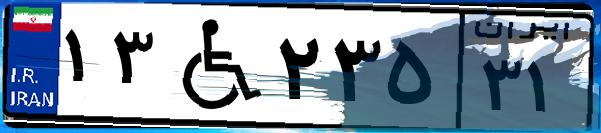1: (57, 26, 110, 100), (525, 38, 570, 115)
2: (270, 28, 330, 110)
3: (330, 28, 385, 110), (475, 38, 525, 113), (110, 28, 158, 98)
5: (385, 28, 445, 110)
ژ (معلولین و جانبازان): (158, 12, 270, 120)
